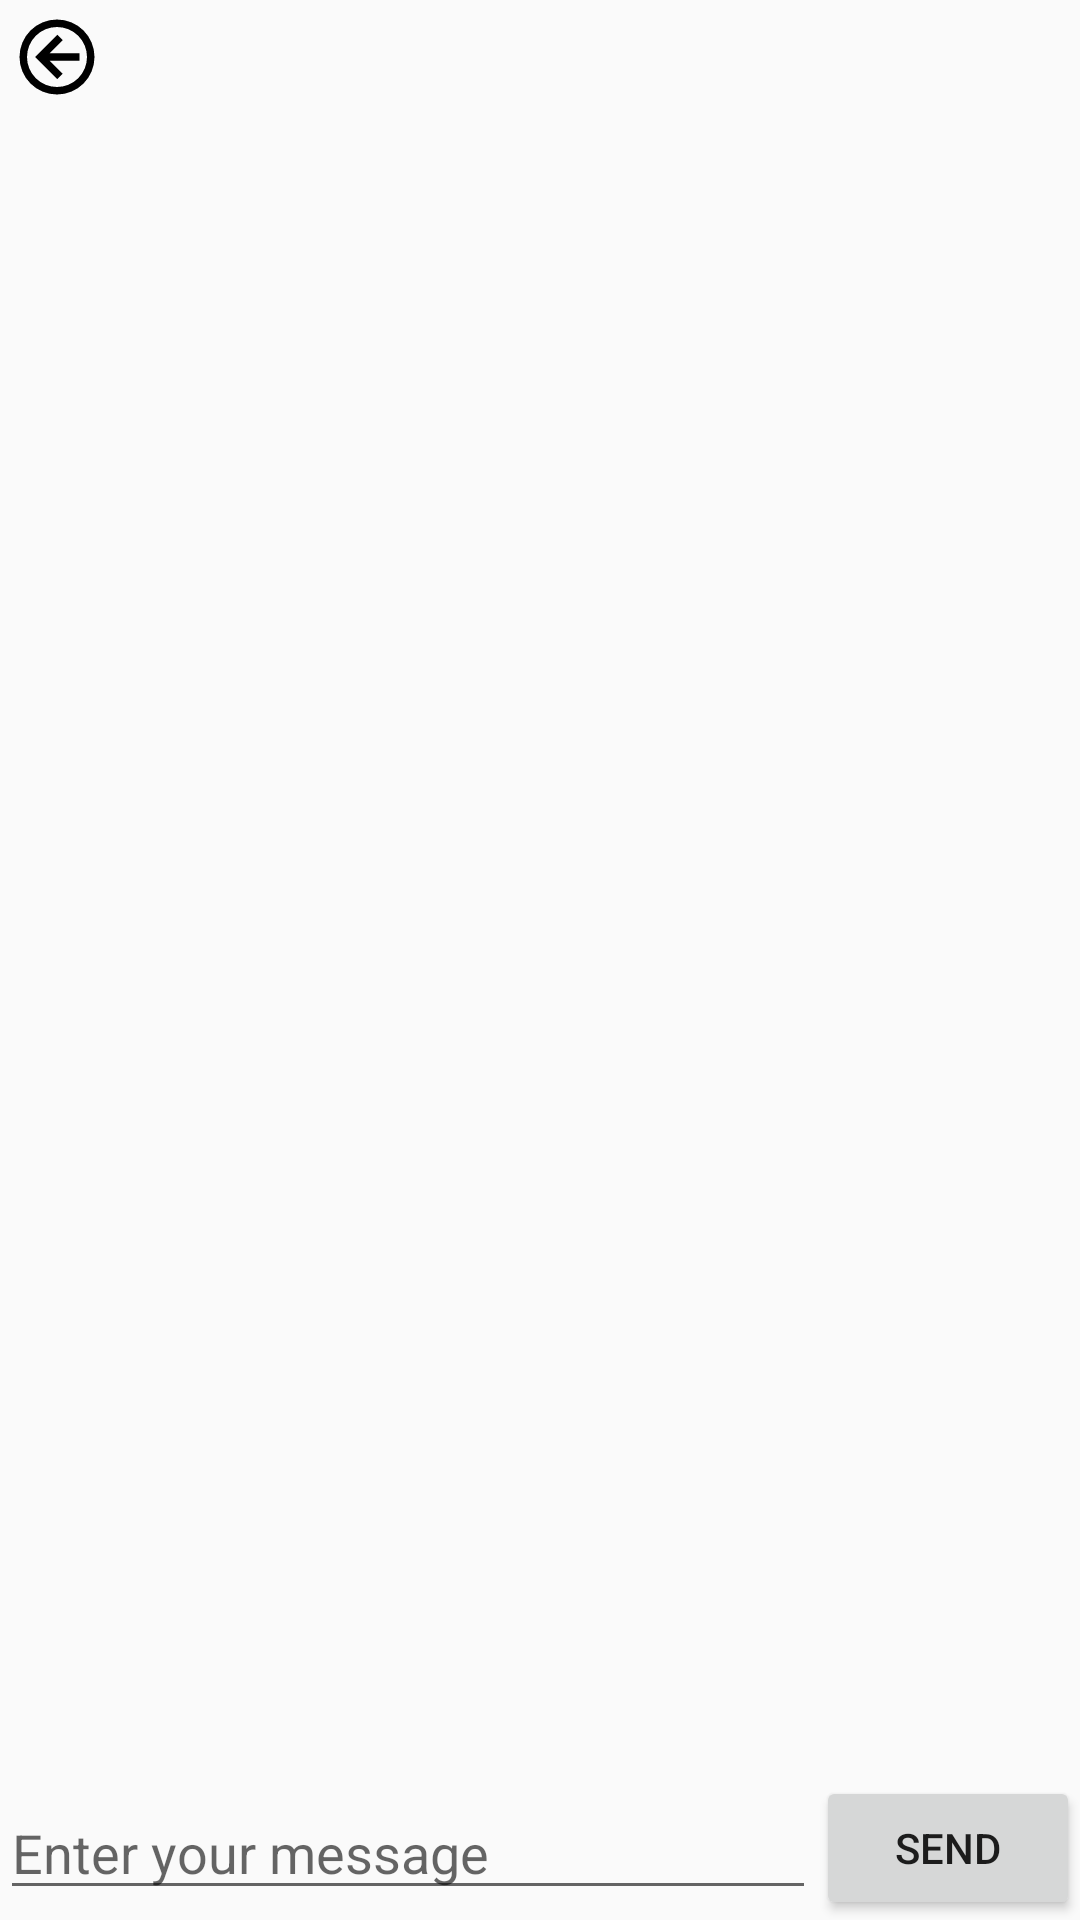

Where to tap for icons on this 1080x1920 app screen, as (x,y):
arrow left circle: (57,57)
